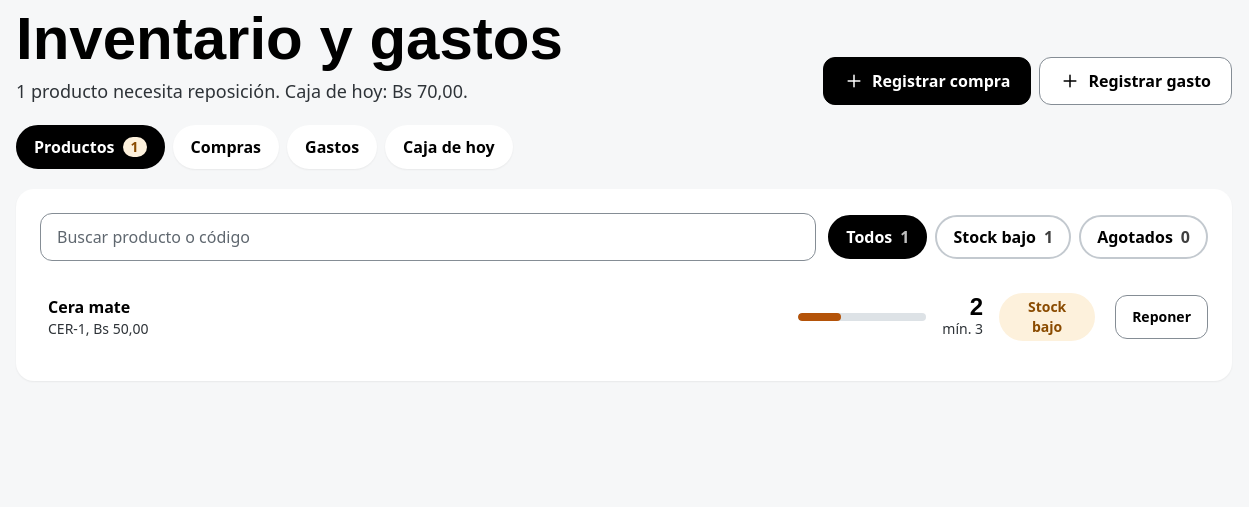
Test: InventoryPage › shows what is left in the till by payment method
Click the tab "Caja de hoy" at (449, 147), box [385, 125, 513, 169]
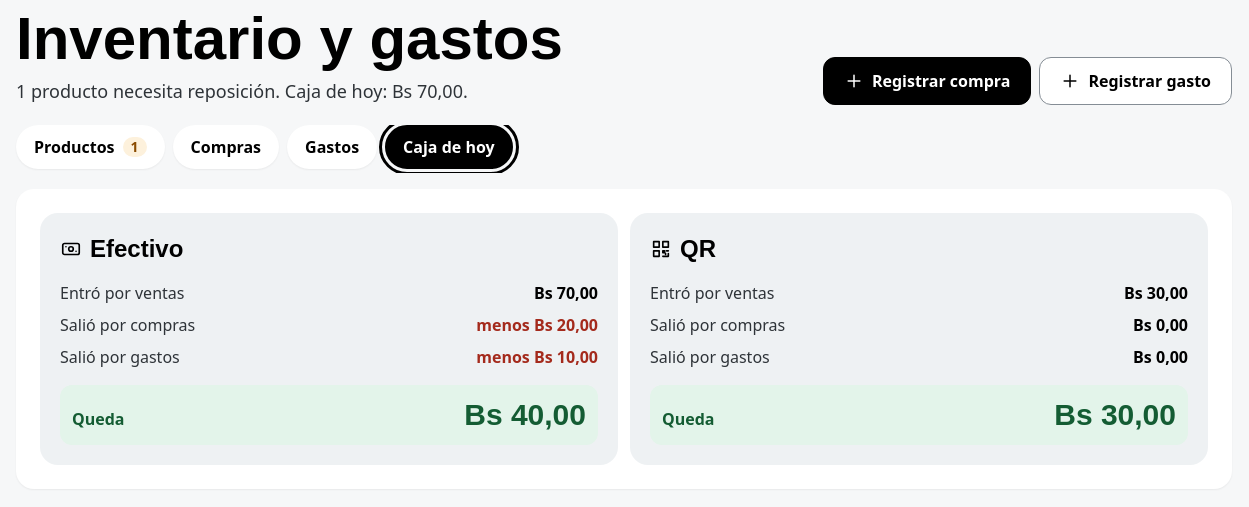
expect the text "menos Bs 20,00" is shown: met, box [476, 313, 598, 337]
expect the text "Bs 40,00" is shown: met, box [464, 397, 586, 433]
